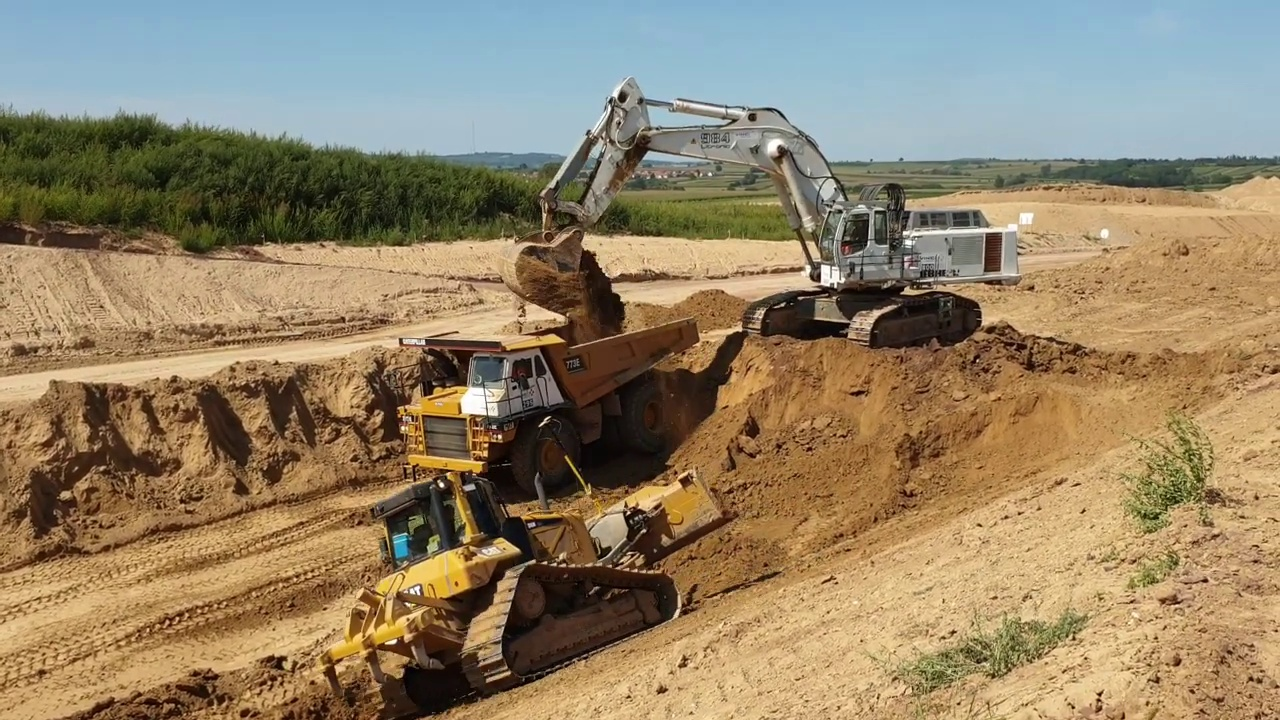bulldozer: (315, 419, 730, 717)
excavator: (491, 69, 1032, 354)
truck: (388, 313, 712, 489)
